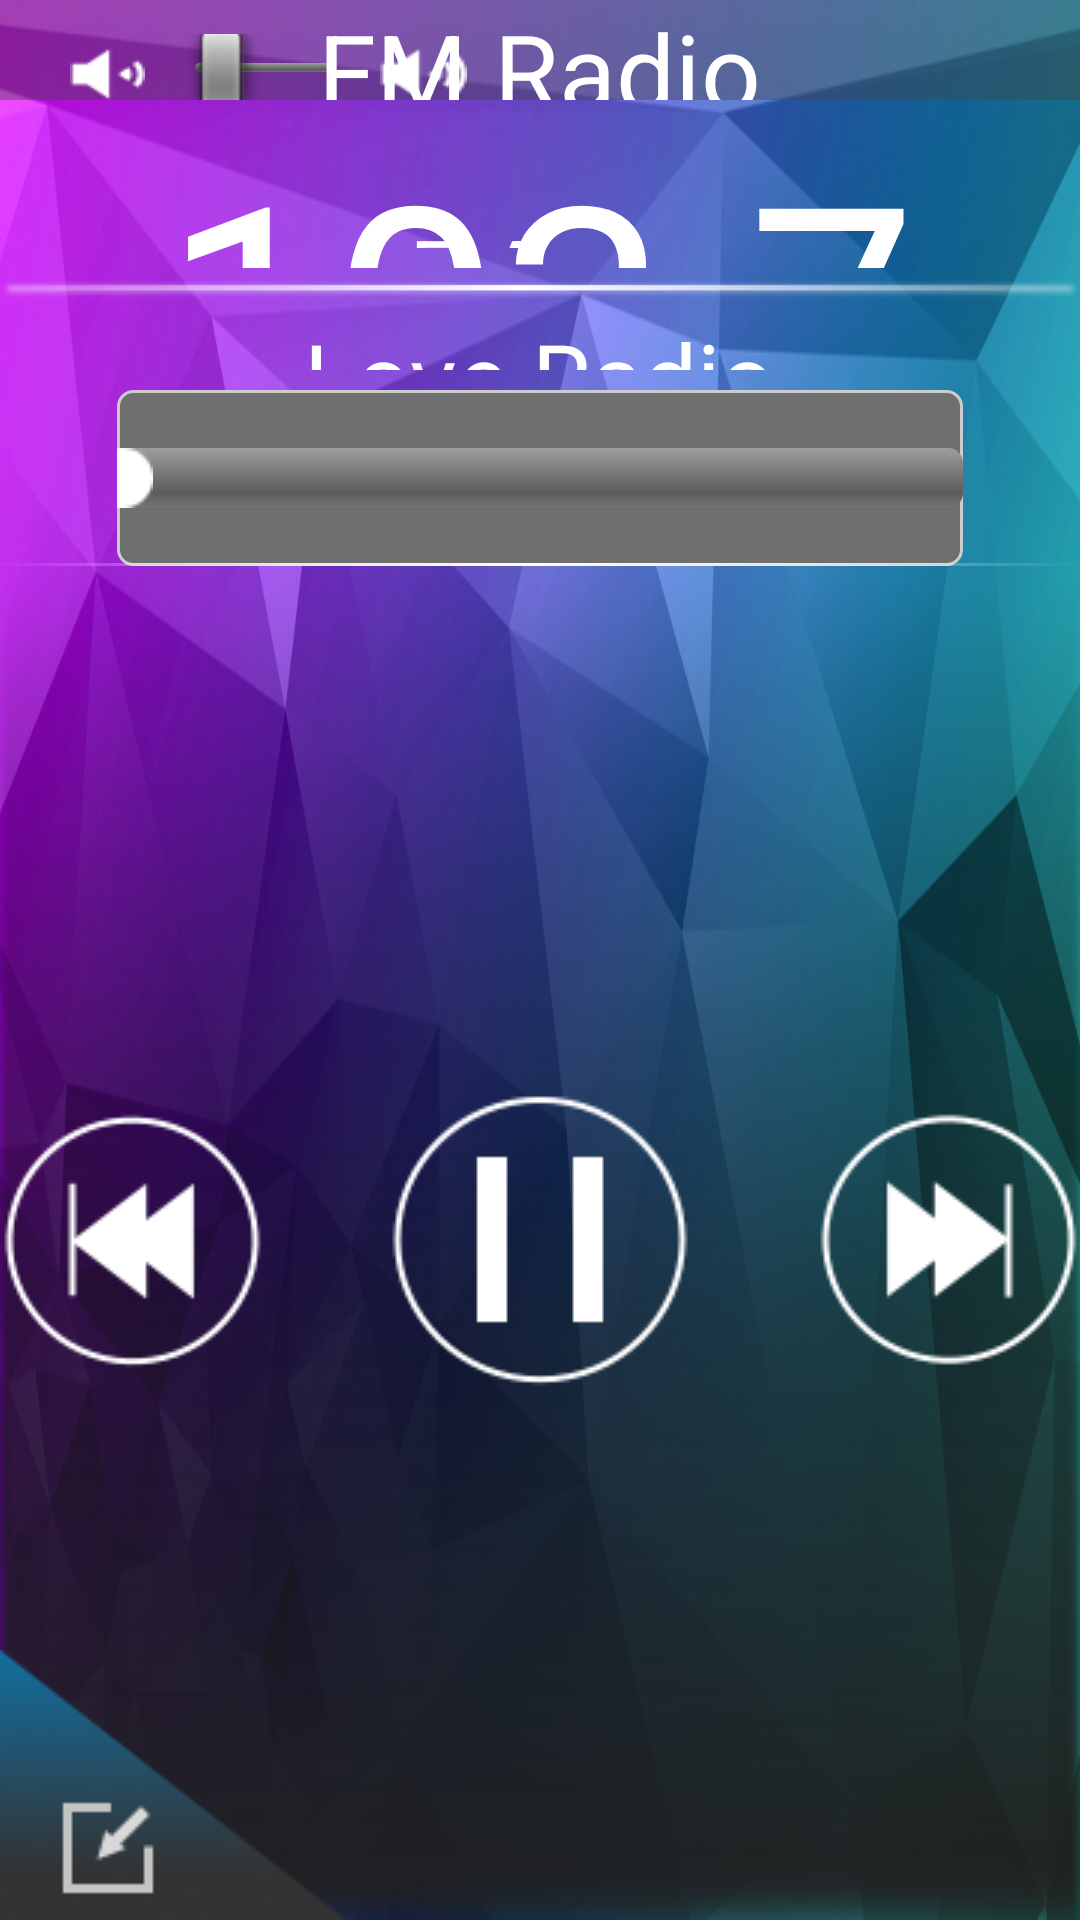

Point at icon controls on the screen. Image size 1080 x 1920, points as (x,y).
left quit: (174,1785)
next: (949,1242)
pre: (130,1242)
